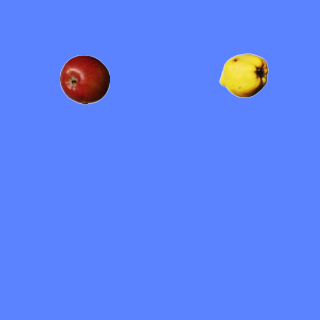Apple Braeburn: (59, 54, 109, 104)
Quince: (218, 50, 268, 100)
